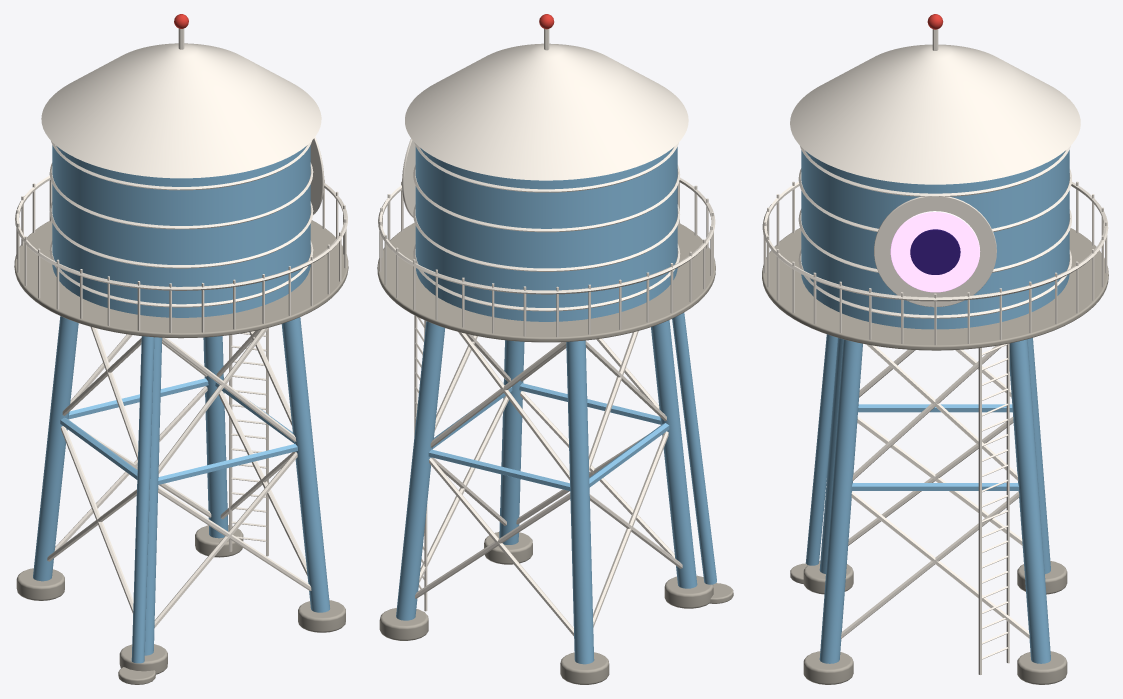
The model's file is water_tower.glb.
3 views of the same model, side by side, from view 1: azimuth 30°, elevation 25°; view 2: azimuth 150°, elevation 25°; view 3: azimuth 270°, elevation 25° (orthographic). The views are drawn at different scales.
Visible parts, largest first — view 1: water_tower; view 2: water_tower; view 3: water_tower.
Part boxes in pixels (x1,y1,x2,y2): water_tower: (14, 14, 348, 684); water_tower: (377, 14, 733, 684); water_tower: (762, 14, 1108, 684).
Size of the model in its own units: 6.2 by 12.14 by 6.2.
Materials: 1 (1 with a texture image).
